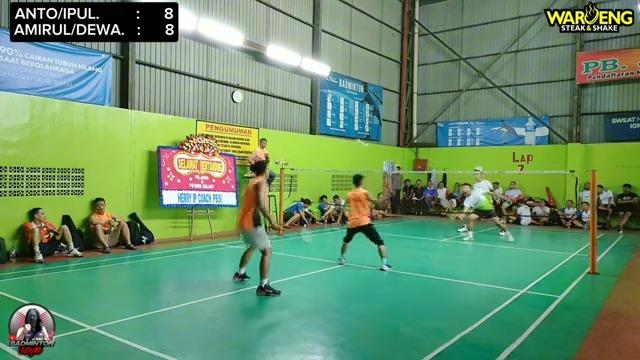Shuttlecock: (357, 137, 371, 151)
